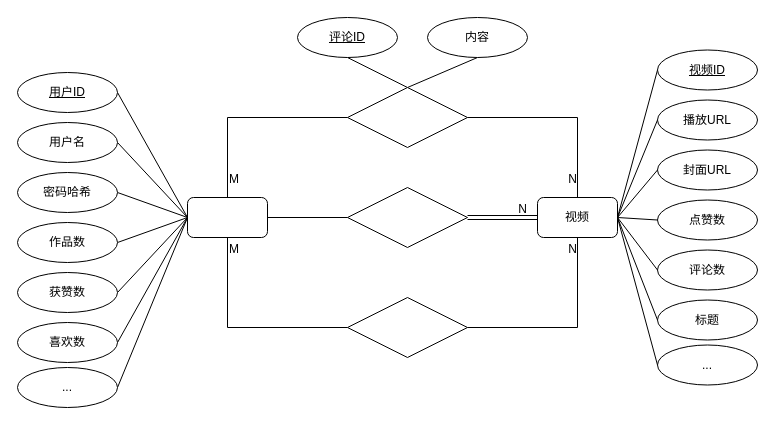
Image size: 775x425. Some labels were removed from this diagram. The shapes that lost their labels are listed below. From the top down, each one's centre as x and y in pixels, then its label:
At pixel 407 117: "评论".
At pixel 227 217: "用户".
At pixel 407 217: "发布".
At pixel 407 327: "喜欢（点赞）".
